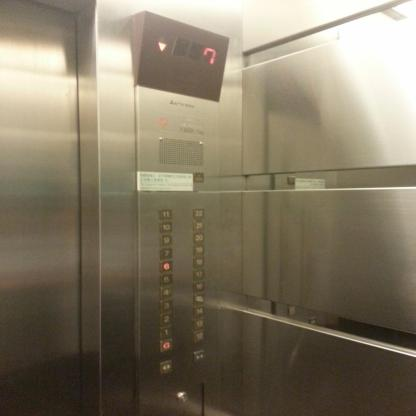1: (160, 326, 173, 338)
10: (160, 221, 173, 233)
11: (160, 208, 172, 219)
12: (193, 329, 205, 343)
13: (193, 317, 206, 330)
14: (193, 305, 206, 317)
15: (193, 293, 205, 305)
16: (193, 280, 205, 293)
17: (193, 268, 205, 280)
18: (193, 256, 205, 268)
19: (193, 244, 205, 256)
2: (160, 312, 174, 326)
20: (193, 231, 205, 244)
21: (193, 219, 205, 231)
22: (193, 207, 205, 219)
3: (160, 300, 173, 312)
4: (160, 286, 173, 298)
5: (160, 273, 173, 286)
6: (160, 260, 173, 272)
7: (160, 248, 173, 259)
9: (160, 234, 173, 246)
G: (159, 338, 173, 352)
alarm: (192, 172, 204, 182)
blur: (175, 391, 189, 404)
close: (193, 350, 205, 362)
open: (160, 359, 173, 374)
